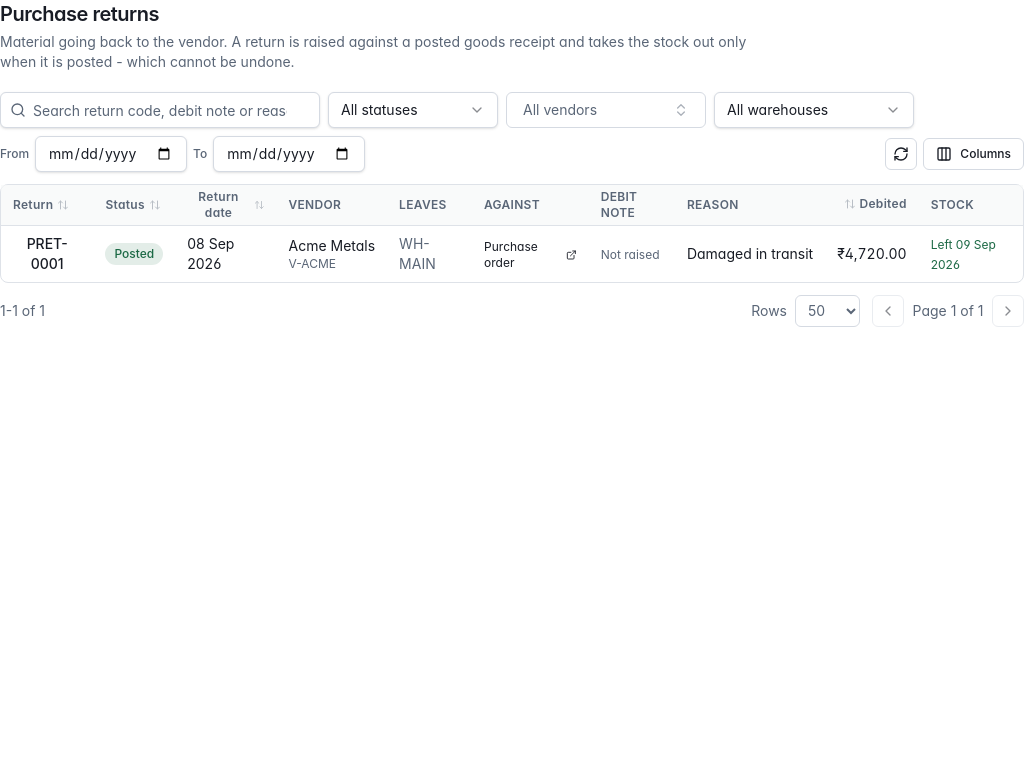
Test case: allocating a posted vendor debit › shows the allocation workflow only to invoice readers with finance approval rights
The image size is (1024, 768).
Click the button "PRET-0001" at (47, 254), box [13, 234, 81, 274]
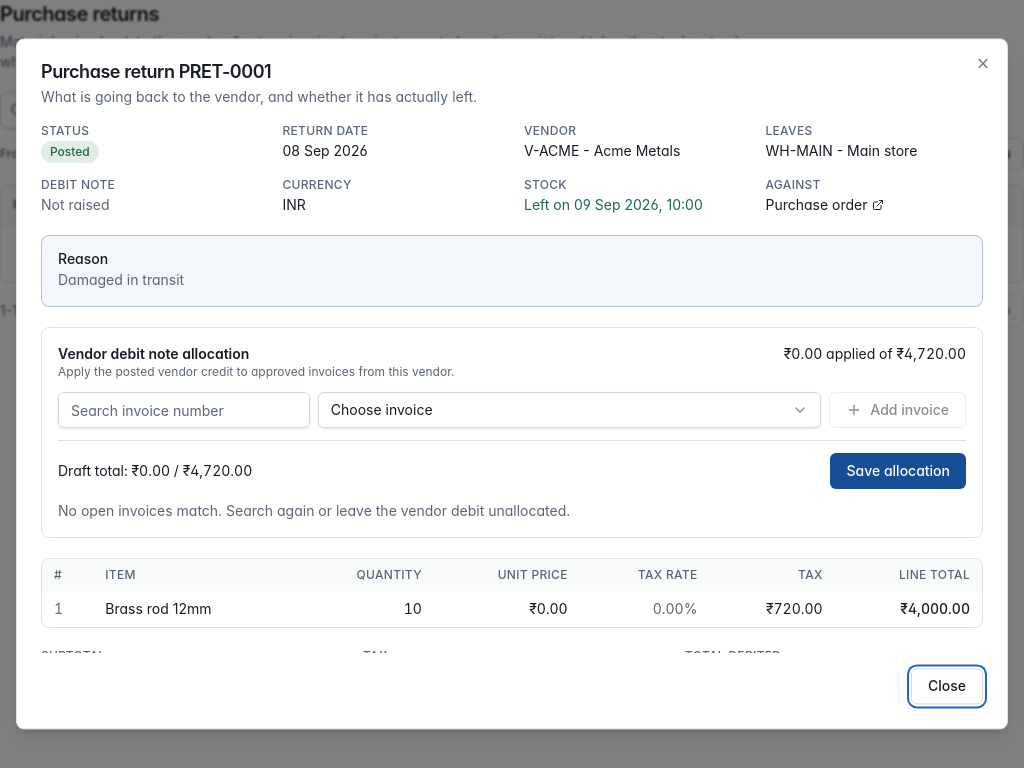
Expected: the element "Vendor debit note allocation" is shown, [41, 327, 983, 538]
